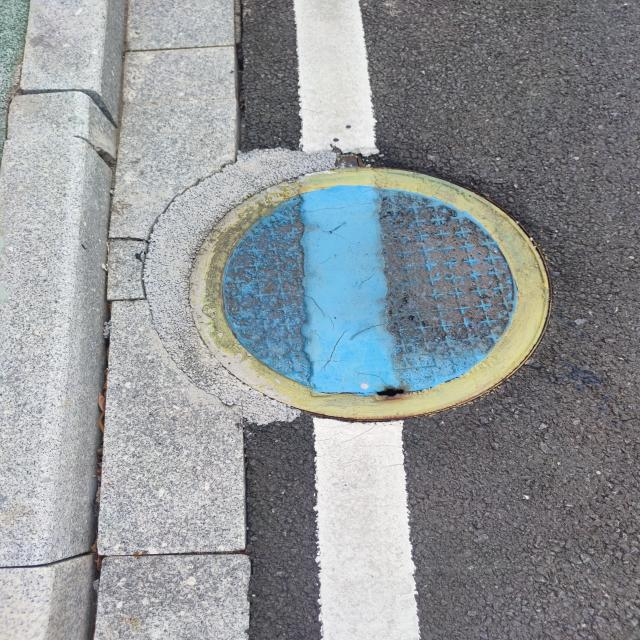Good: (183, 164, 556, 425)
